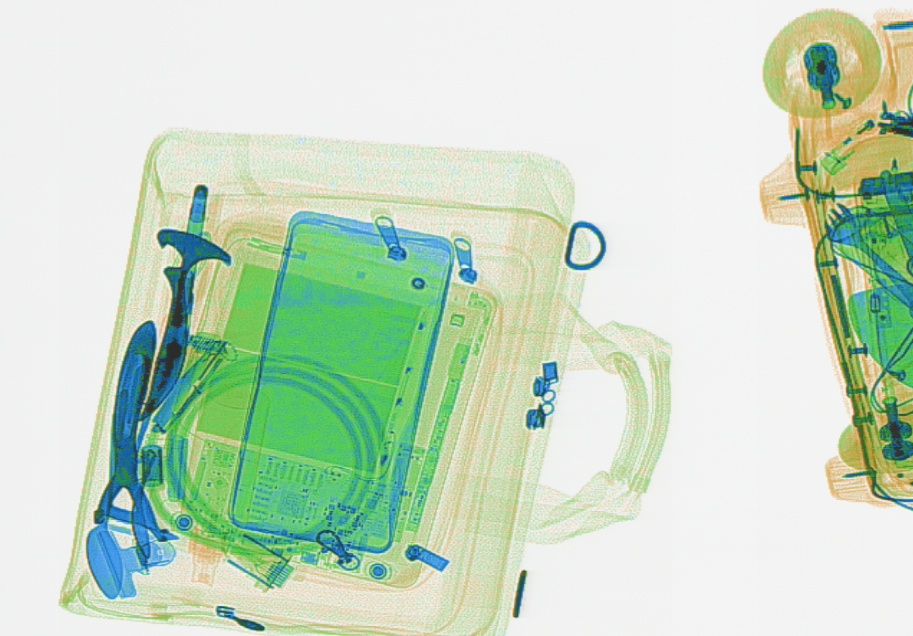knife: (91, 320, 176, 542)
lighter: (817, 97, 900, 174)
